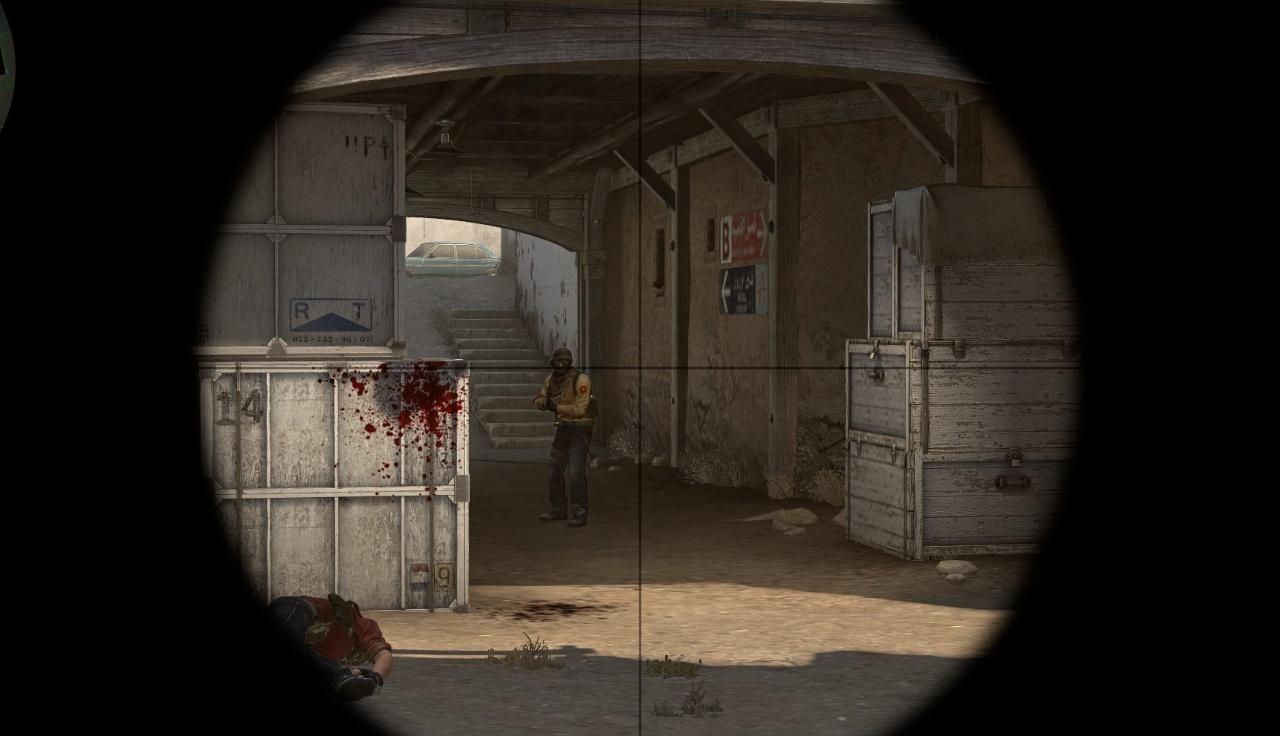tt: (540, 348, 596, 525)
tthead: (553, 350, 571, 375)
